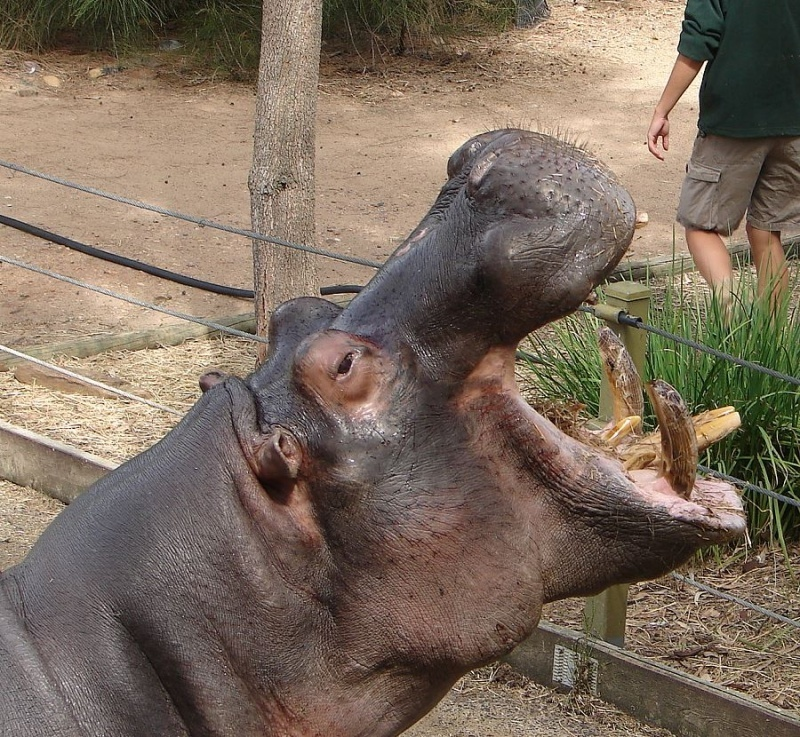hipopotamo: (14, 96, 757, 726)
